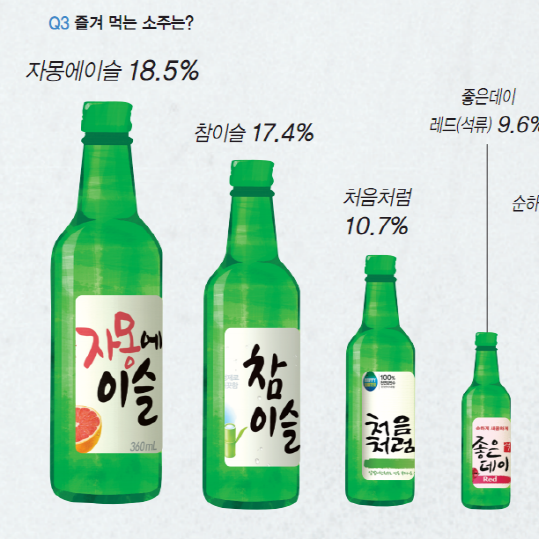soju: (44, 99, 165, 506), (203, 159, 302, 511), (341, 251, 420, 509), (458, 330, 514, 513)
